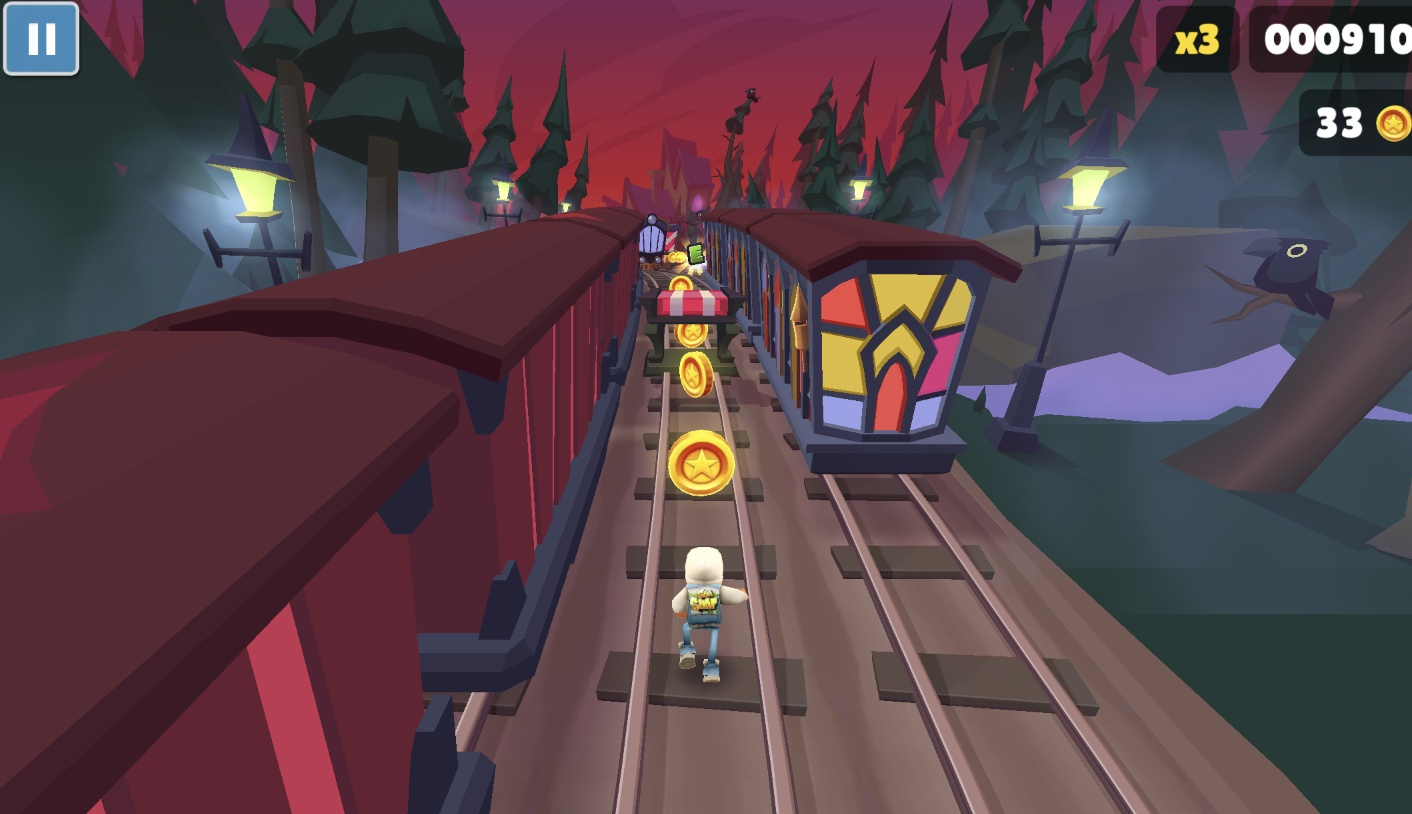ground_barrier: (637, 287, 744, 377)
overhead_barrier: (665, 217, 687, 263)
train: (0, 215, 650, 814), (697, 215, 1041, 502), (639, 217, 679, 273)
